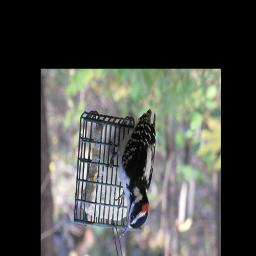Woodpecker: (106, 109, 156, 238)
